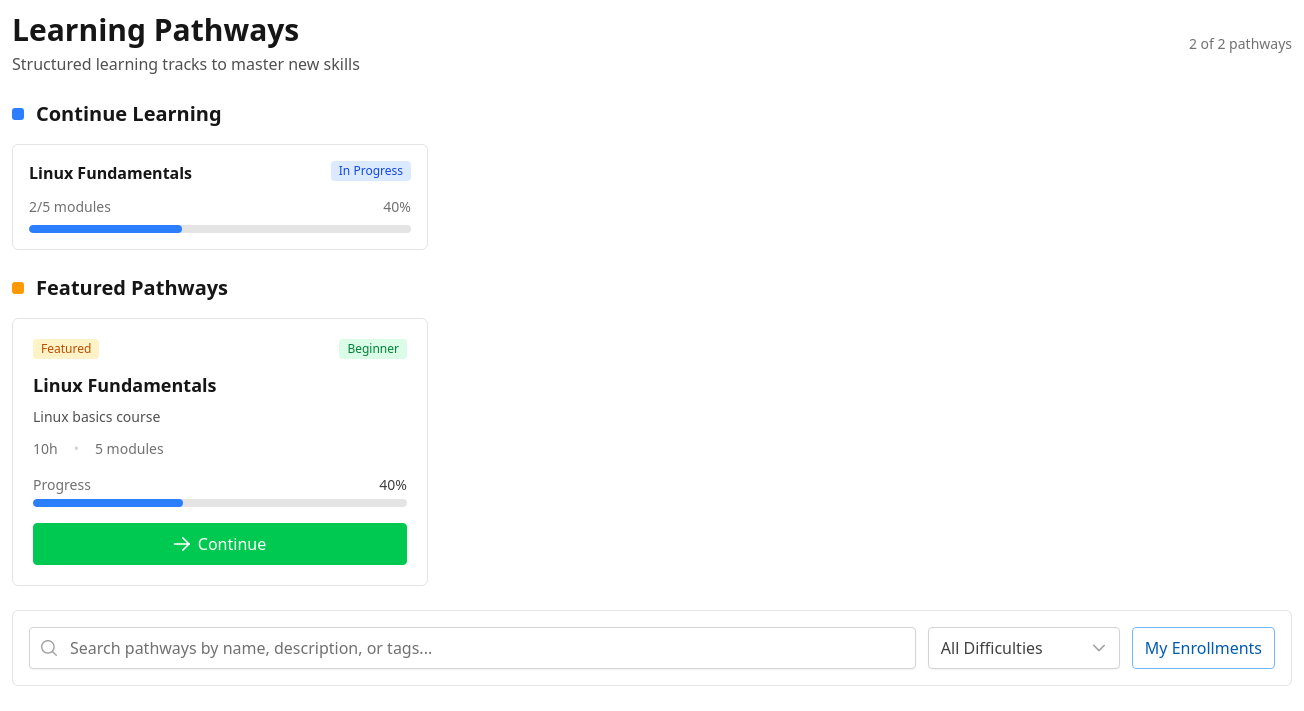
Test: PathwaysListView › filtering › should show enrolled pathways only when filter is active
The width and height of the screenshot is (1304, 711).
Click the button "My Enrollments". click: [1203, 648]
box: 1132,627 -> 1275,669
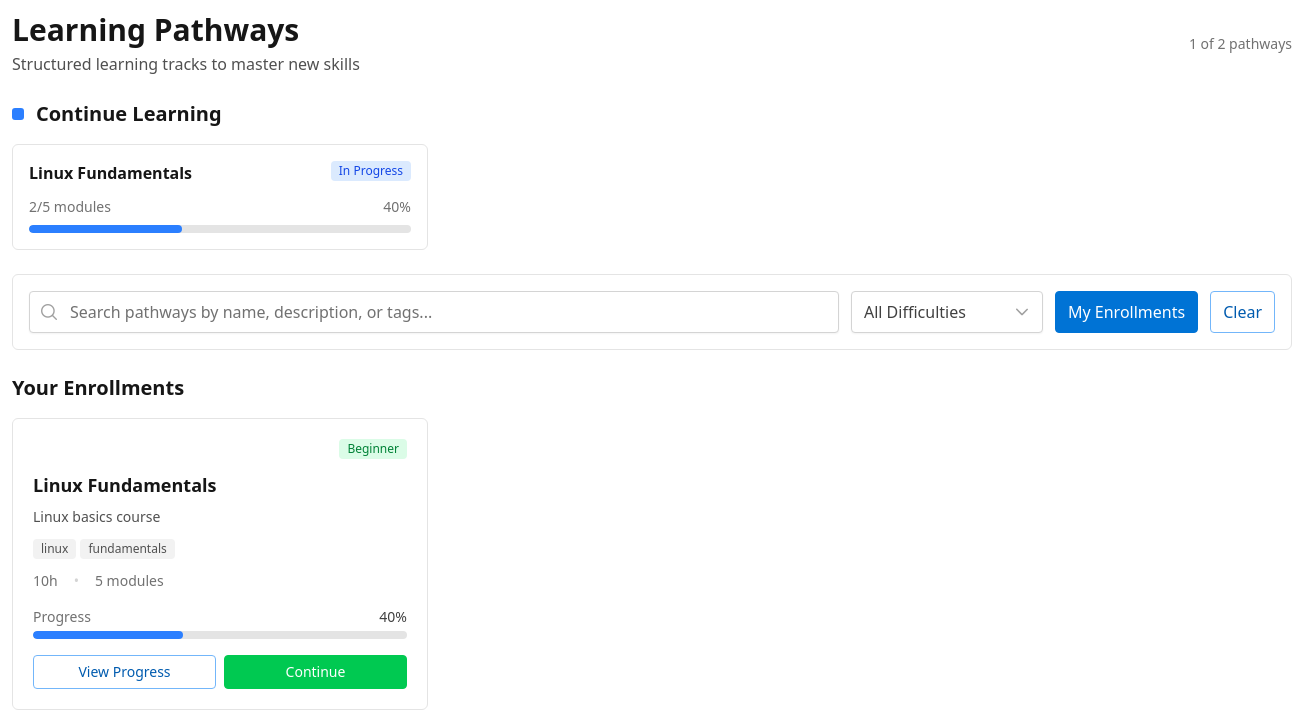
Expected: the text "1 of 2" is shown, 1189,34 -> 1292,53
